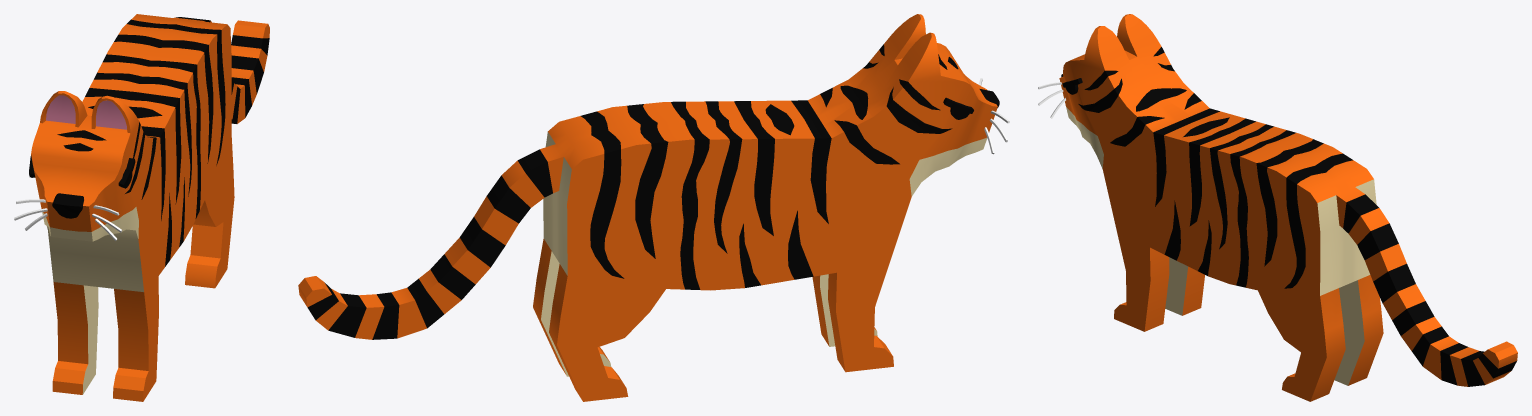
Rendered from tiger.glb.
3 views of the same model, side by side, from view 1: azimuth 30°, elevation 25°; view 2: azimuth 150°, elevation 25°; view 3: azimuth 270°, elevation 25° (orthographic). The views are drawn at different scales.
Parts seen in each view (by area): view 1: Plane.157, Cube.007, Circle.1953, Circle.1954; view 2: Plane.157; view 3: Plane.157.
Part boxes in pixels (x1,y1,x2,y2): Plane.157: (31,14,269,401); Cube.007: (14,199,122,240); Circle.1953: (52,193,83,218); Circle.1954: (29,155,135,187); Plane.157: (298,14,997,401); Plane.157: (1059,14,1517,401).
Size of the model in its own units: 2.49 by 1.57 by 2.49.
Materials: 1 (1 with a texture image).
